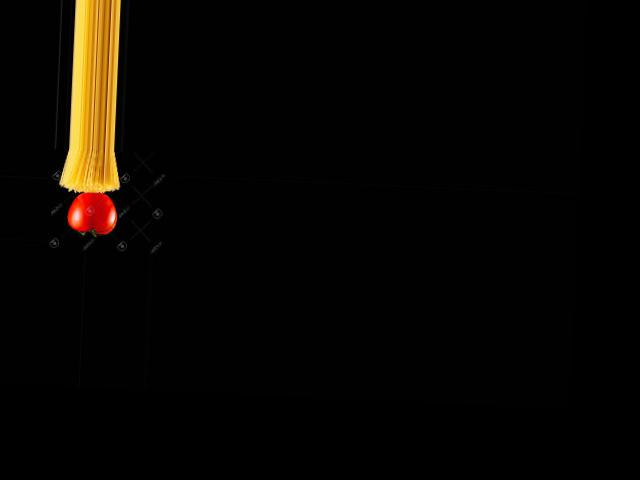tomato: (66, 190, 117, 234)
